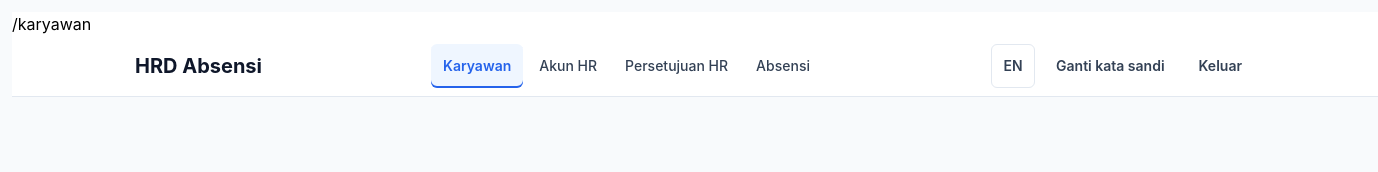
Test case: HrdLayout › switches the shell copy to English via the language toggle
Click the button with test id "lang-toggle".
click(1013, 66)  # box [991,44,1035,88]
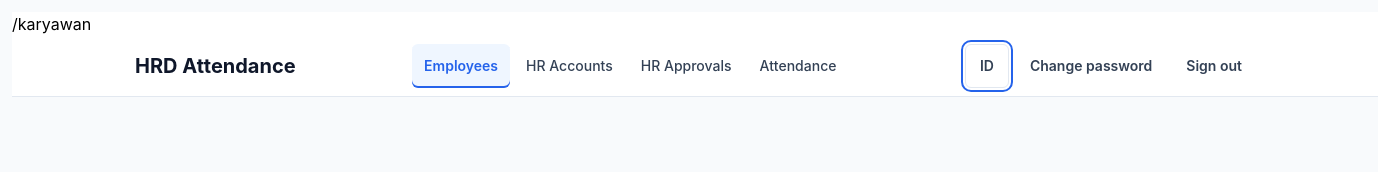
Check: the text "HRD Attendance" is shown, box [135,54,296,78]
Check: the link "Employees" is shown, box [412,44,510,88]
Check: the link "Attendance" is shown, box [760,57,836,74]
